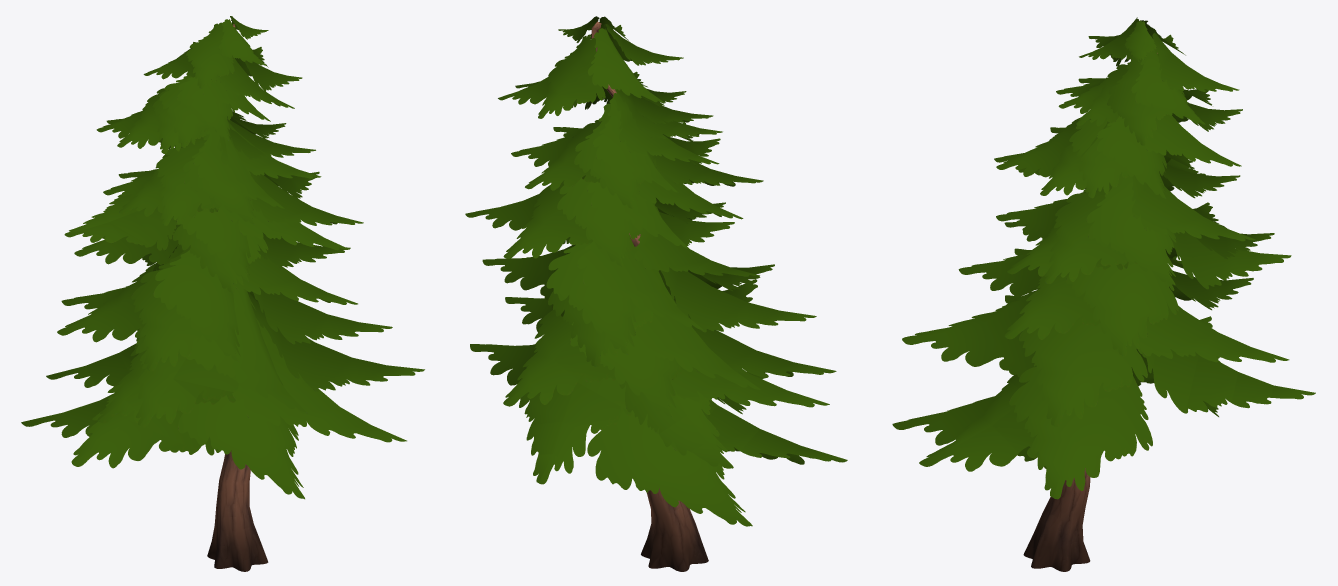
File: Pine_5.gltf
3 views of the same model, side by side, from view 1: azimuth 30°, elevation 25°; view 2: azimuth 150°, elevation 25°; view 3: azimuth 270°, elevation 25° (orthographic). The views are drawn at different scales.
Parts seen in each view (by area): view 1: Pine_5; view 2: Pine_5; view 3: Pine_5.
Boxes of the visible parts, left/top/right/bottom form: Pine_5: left=21, top=16, right=424, bottom=571; Pine_5: left=465, top=16, right=847, bottom=571; Pine_5: left=892, top=17, right=1315, bottom=571.
Size of the model in its own units: 6.42 by 8.72 by 6.22.
Materials: 2 (2 with a texture image).
